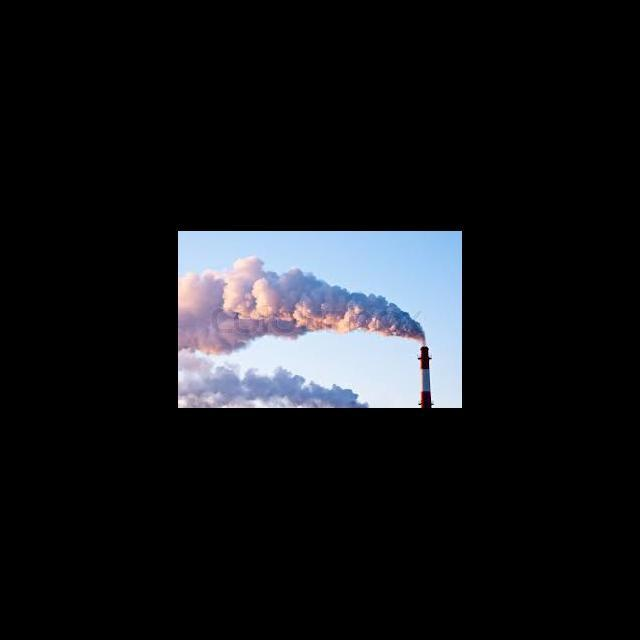Smoke: (233, 262, 316, 301), (178, 354, 234, 408), (240, 370, 302, 408), (178, 277, 227, 307), (305, 382, 358, 408), (179, 308, 210, 352), (352, 290, 385, 312), (321, 282, 346, 302)
